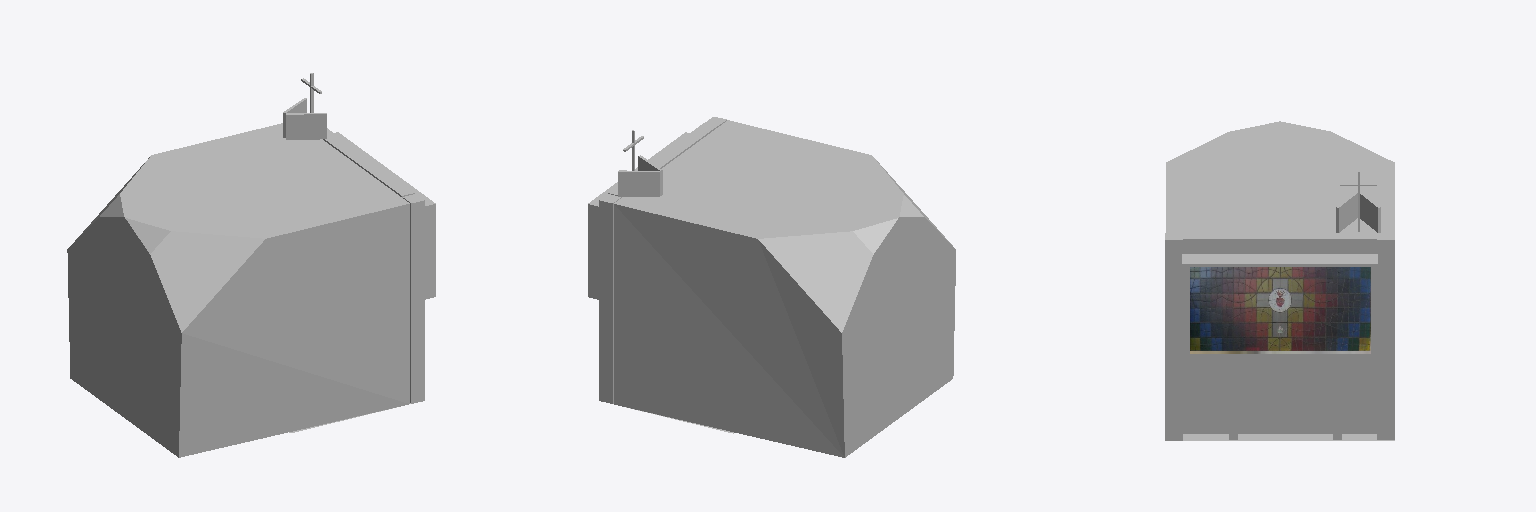
3 renders of one model, left to right at view 1: azimuth 30°, elevation 25°; view 2: azimuth 150°, elevation 25°; view 3: azimuth 270°, elevation 25°, orthographic.
Visible parts, largest first — view 1: Cube.016_Cube.017, Cube.013_Cube.014, Cube.011_Cube.012, Cube.005_Cube.006, Cube.018_Cube.019; view 2: Cube.016_Cube.017, Cube.014_Cube.015, Cube.011_Cube.012, Cube.017_Cube.018, Cube.005_Cube.006; view 3: Cube.016_Cube.017, Cube.004_Cube.005, Plane.002_Plane.003, Plane.001, Cube.011_Cube.012, Cube.005_Cube.006, Cube.013_Cube.014, Cube.014_Cube.015, Plane, Cube.012_Cube.013, Cube.015_Cube.016, Cube.018_Cube.019 (+1 smaller).
Part boxes in pixels (left/top/right/bottom): Cube.016_Cube.017: left=67, top=123, right=409, bottom=457; Cube.013_Cube.014: left=403, top=194, right=424, bottom=403; Cube.011_Cube.012: left=334, top=132, right=435, bottom=299; Cube.005_Cube.006: left=323, top=128, right=414, bottom=197; Cube.018_Cube.019: left=286, top=113, right=326, bottom=139; Cube.016_Cube.017: left=614, top=120, right=955, bottom=457; Cube.014_Cube.015: left=599, top=194, right=620, bottom=403; Cube.011_Cube.012: left=588, top=132, right=689, bottom=299; Cube.017_Cube.018: left=618, top=170, right=659, bottom=196; Cube.005_Cube.006: left=608, top=122, right=717, bottom=195; Cube.016_Cube.017: left=1166, top=121, right=1394, bottom=232; Cube.004_Cube.005: left=1190, top=267, right=1370, bottom=353; Plane.002_Plane.003: left=1183, top=357, right=1285, bottom=433; Plane.001: left=1286, top=357, right=1376, bottom=433; Cube.011_Cube.012: left=1182, top=254, right=1377, bottom=356; Cube.005_Cube.006: left=1183, top=232, right=1376, bottom=253; Cube.013_Cube.014: left=1165, top=233, right=1182, bottom=440; Cube.014_Cube.015: left=1377, top=233, right=1394, bottom=439; Plane: left=1183, top=434, right=1394, bottom=440; Cube.012_Cube.013: left=1333, top=357, right=1341, bottom=439; Cube.015_Cube.016: left=1229, top=357, right=1237, bottom=439; Cube.018_Cube.019: left=1336, top=192, right=1357, bottom=232.
Bounding box in the file's own units: 5.89 × 5.6 × 4.45.
Materials: 16 (1 with a texture image).